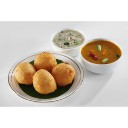bonda: (34, 69, 57, 93), (52, 63, 75, 85), (14, 61, 35, 85), (36, 52, 58, 70)
